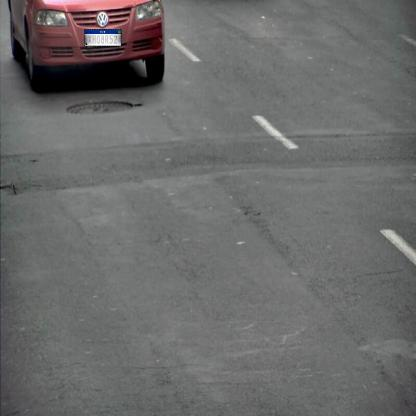PlacaM: (84, 29, 122, 47)
